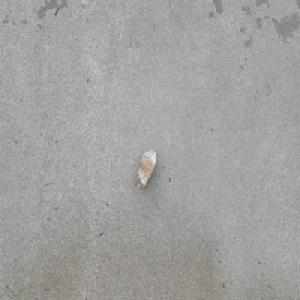Rock: (136, 145, 157, 188)
